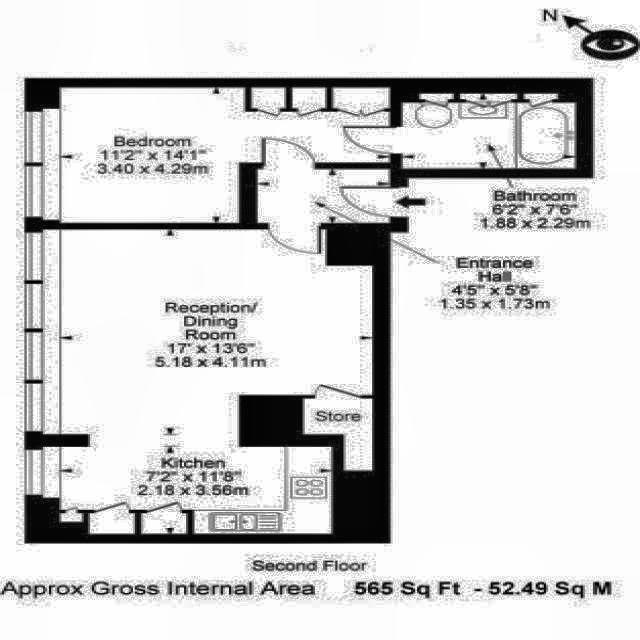room: (60, 230, 373, 535), (60, 88, 391, 223), (402, 93, 575, 170), (259, 168, 391, 222), (303, 399, 372, 471)
